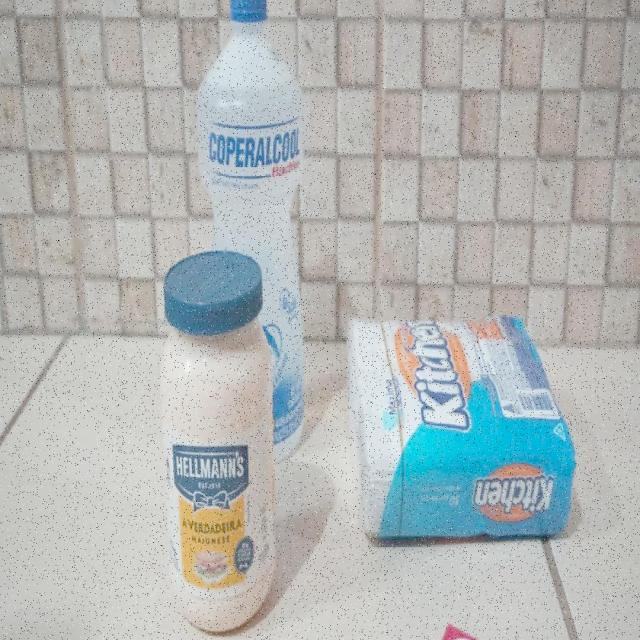AlcoholBottle: (196, 0, 304, 465)
Mayonnaise: (163, 248, 276, 638)
Napkin: (346, 316, 578, 540)
Toothpaste: (435, 608, 516, 640)
